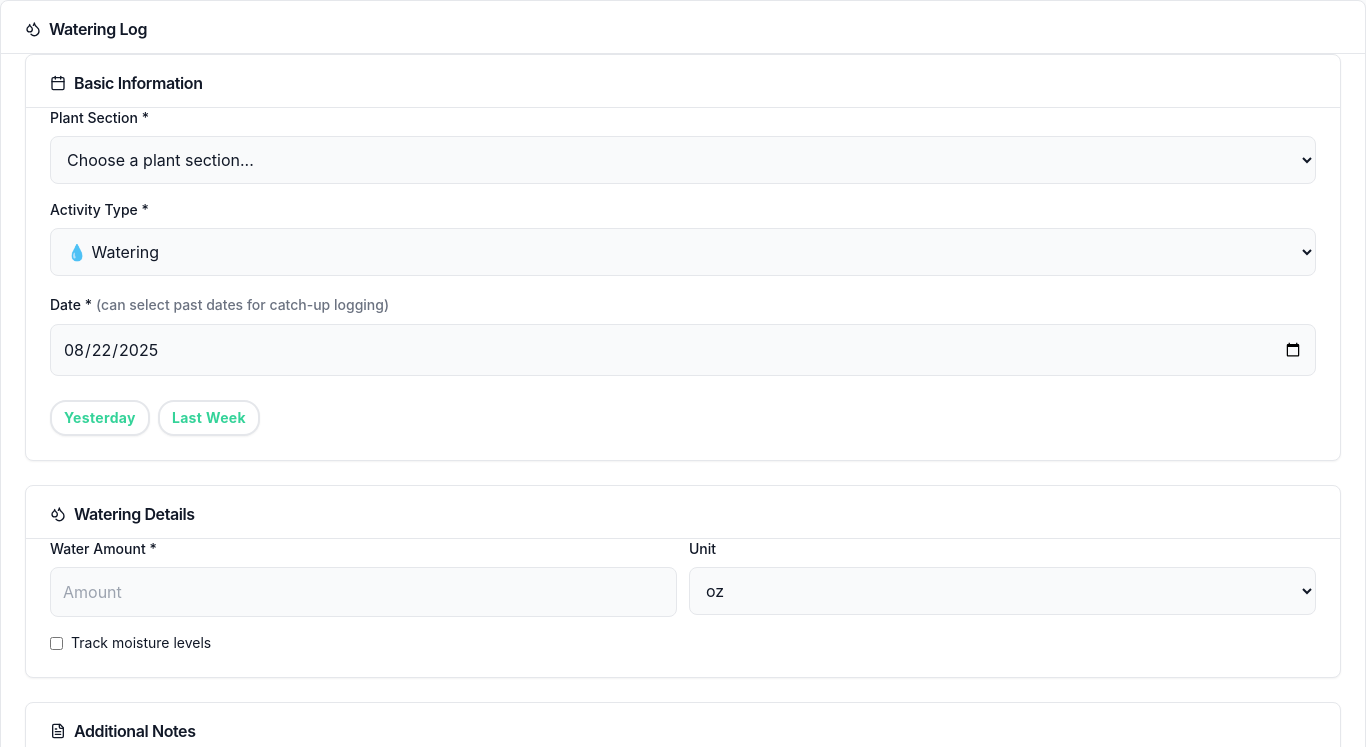
Scenario: CareLogForm › Activity Types › shows fertilize-specific fields when fertilize activity is selected
Select "Tomato (1 plant)" in the dropdown labelled "Plant Section *" at (683, 160), box [50,136,1316,184]
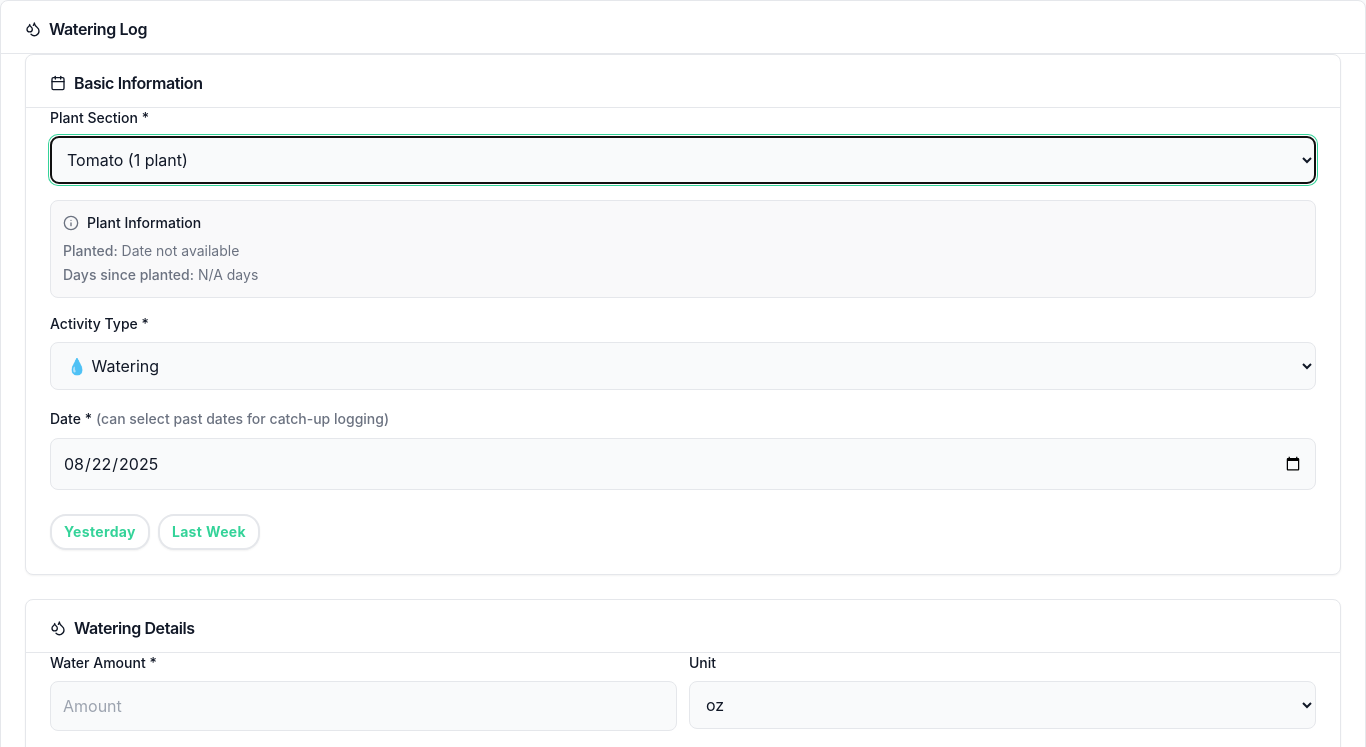
Select "🌱 Fertilizing" in the dropdown labelled "Activity Type *" at (683, 366), box [50,342,1316,390]
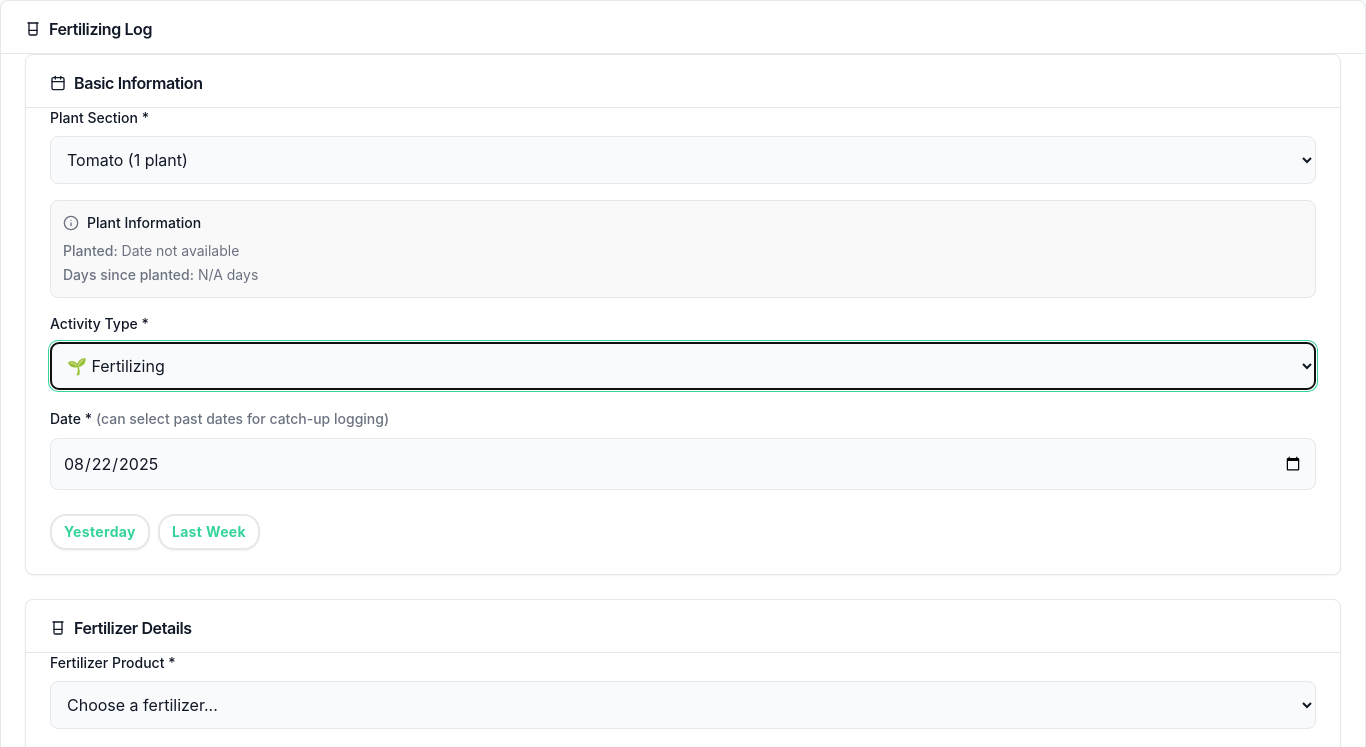
Result: the heading "Fertilizer Details" is shown at [50,618,192,638]
Result: the text "Fertilizer Product *" is shown at [50,654,176,671]
